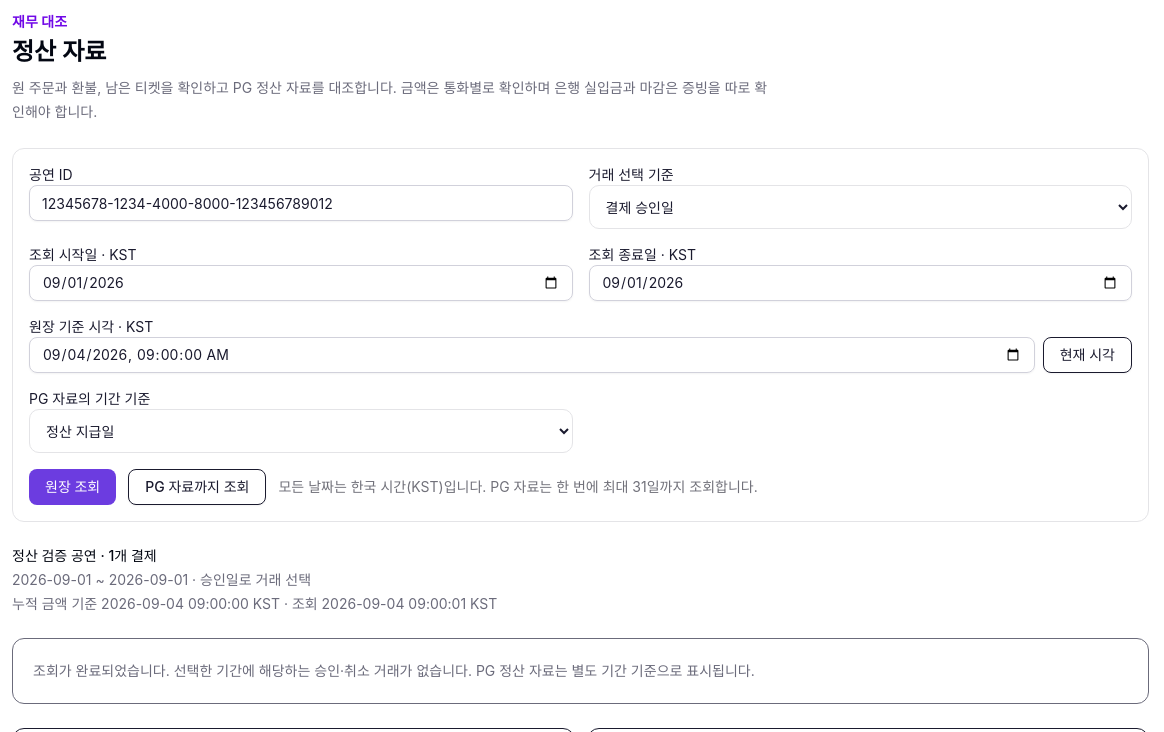
Scenario: Finance ledger dashboard › hides stale totals and their export after a period is edited
Select "취소 완료일 · 처리 중은 요청일" in the dropdown labelled "거래 선택 기준": (860, 207) top-left (588, 185), bottom-right (1132, 229)
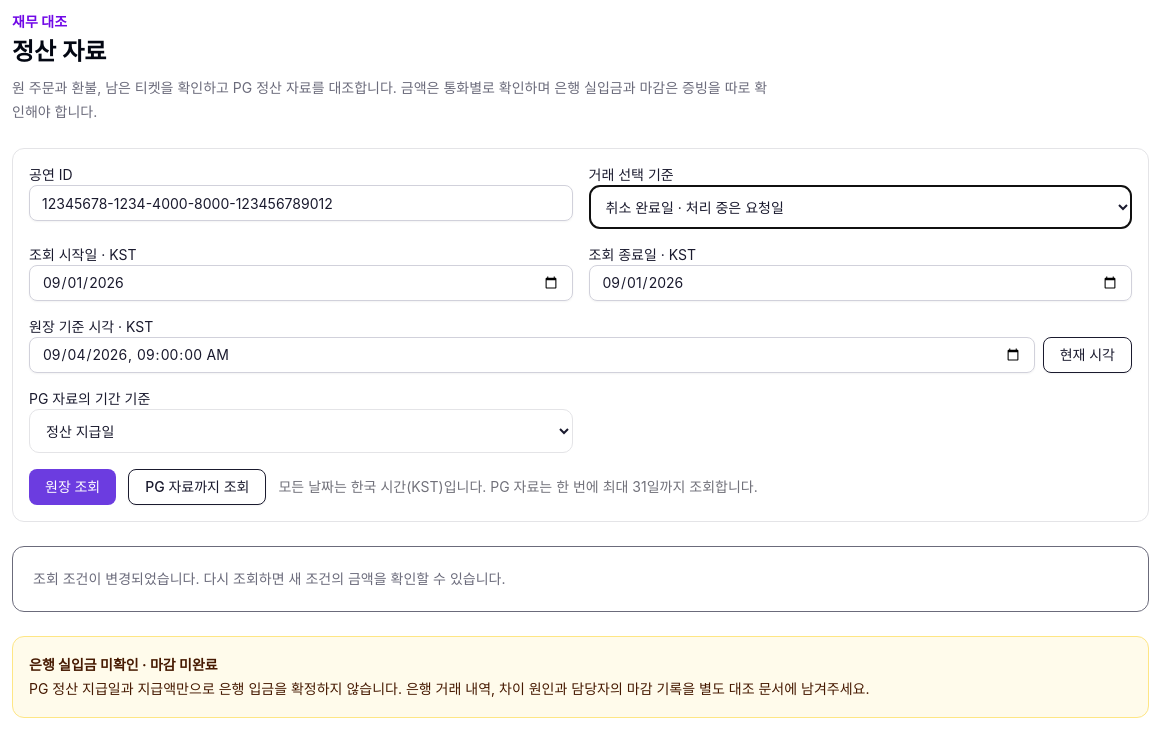
expect the text "조회 조건이 변경되었습니다. 다시 조회하면 새 조건의 금액을 확인할 수 있습니다." is shown: met, box top-left (12, 546), bottom-right (1149, 612)
